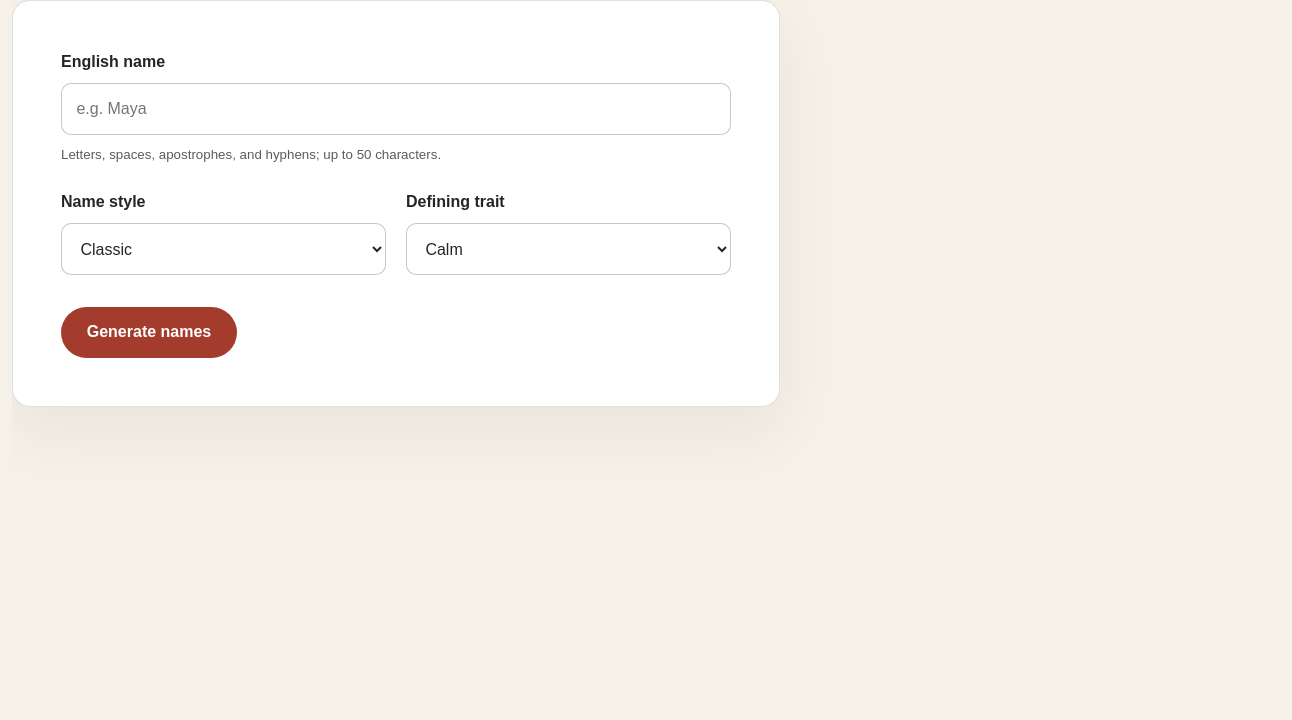
Test: NameGenerator › generates three names and copies a uniquely selected result
Type "Maya" into the field labelled "English name" at point(396, 109), box [61,83,731,135]
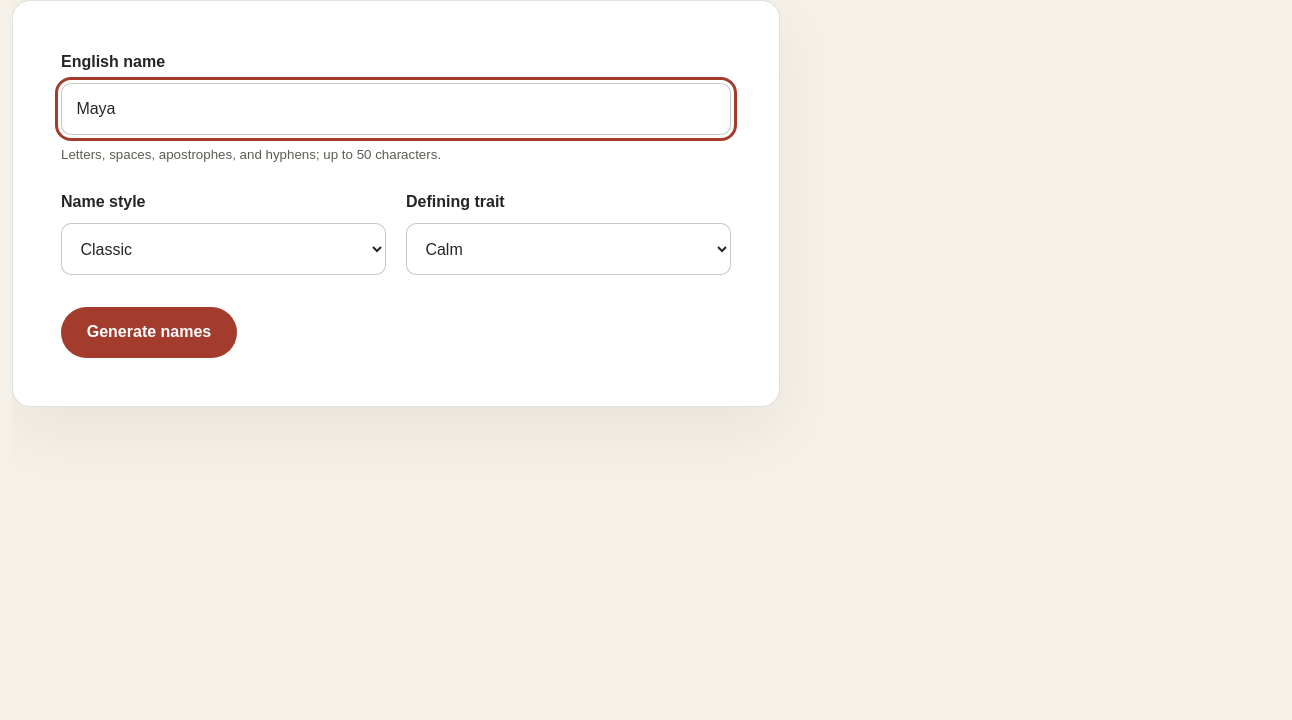
Select "Gentle" in the dropdown labelled "Name style" at point(224, 249), box [61,224,386,275]
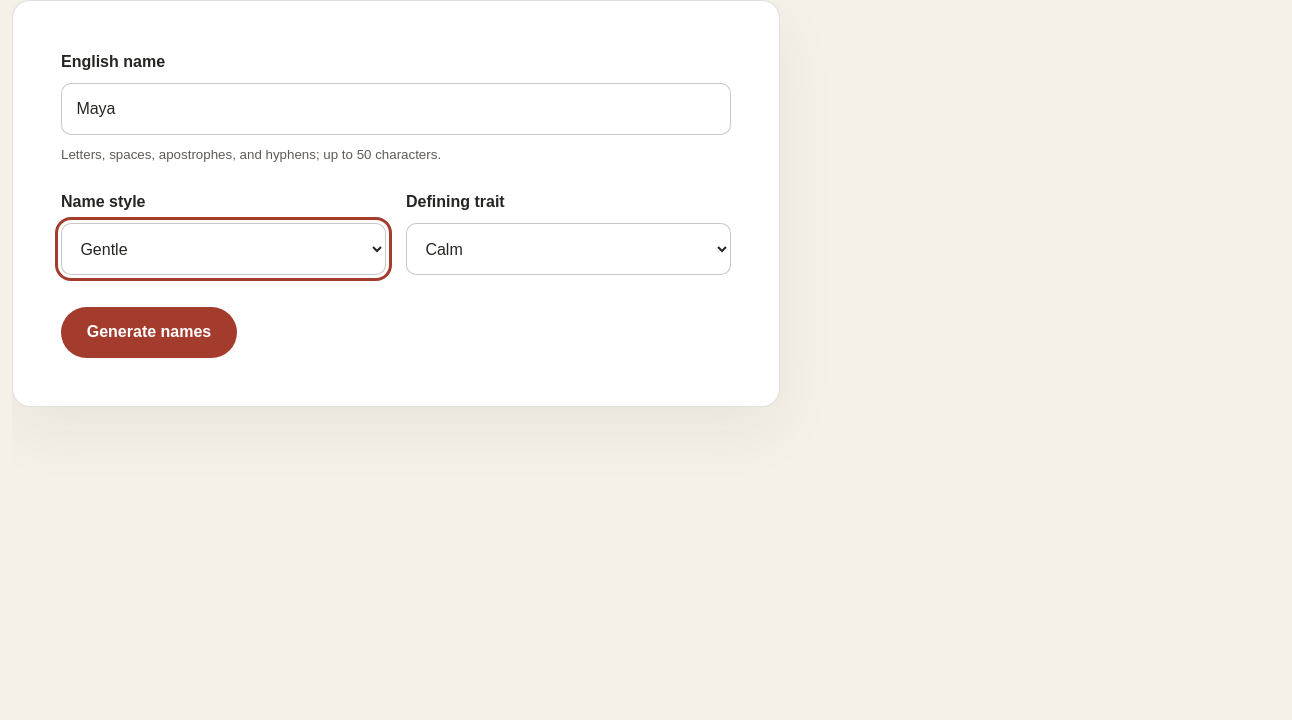
Select "Curious" in the dropdown labelled "Defining trait" at point(568, 249), box [406,224,731,275]
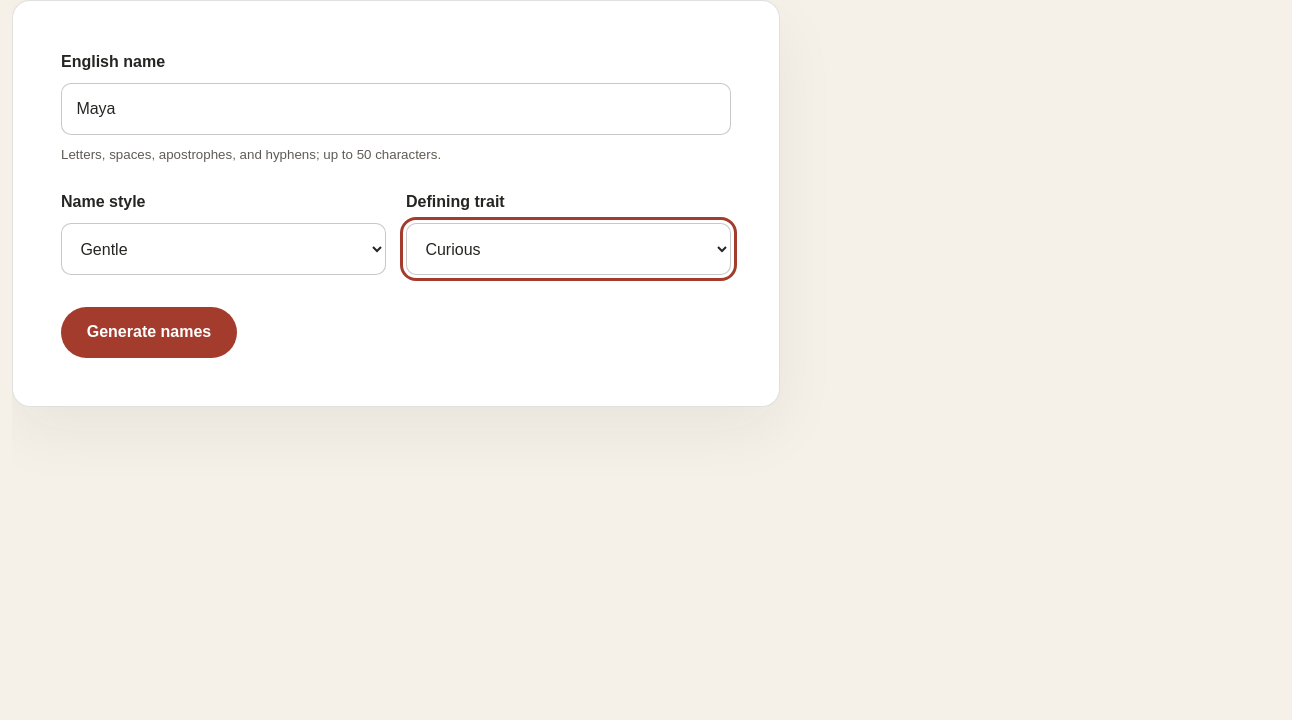
Click the button "Generate names" at point(149, 332), box [61,307,237,358]
(page scrolled)
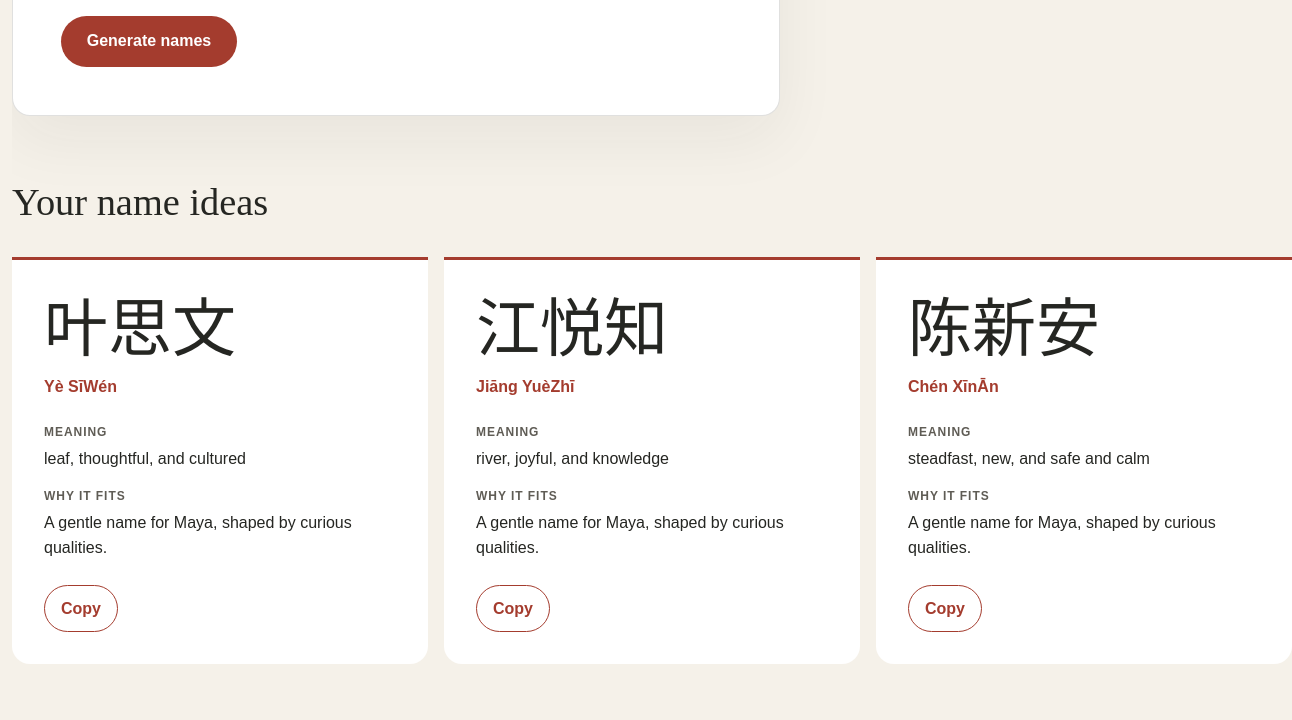
Now the number of elements with test id "name-result" is 3, box [12,257,428,664]; [444,257,860,664]; [876,257,1291,664]
Click the button "Copy" below "leaf, thoughtful, and cultured" at point(81, 608), box [44,585,118,632]
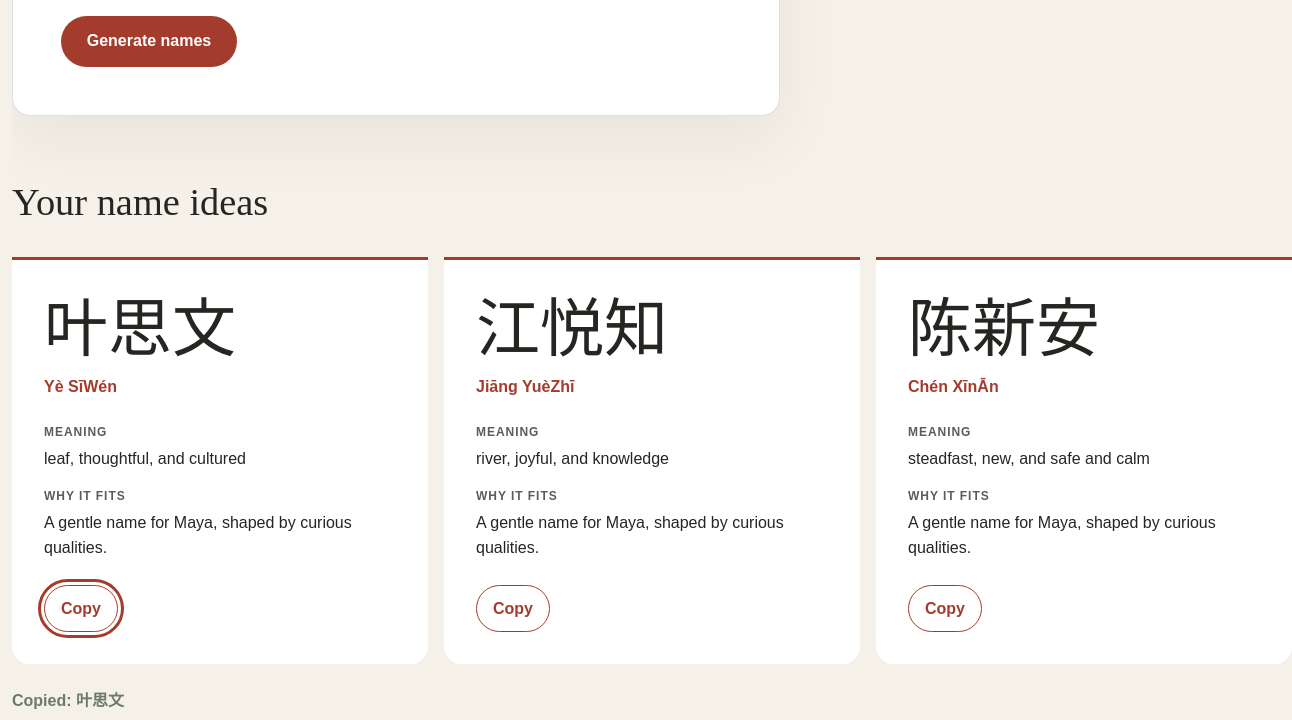
Now the message shows "Copied", box [12,692,124,709]
